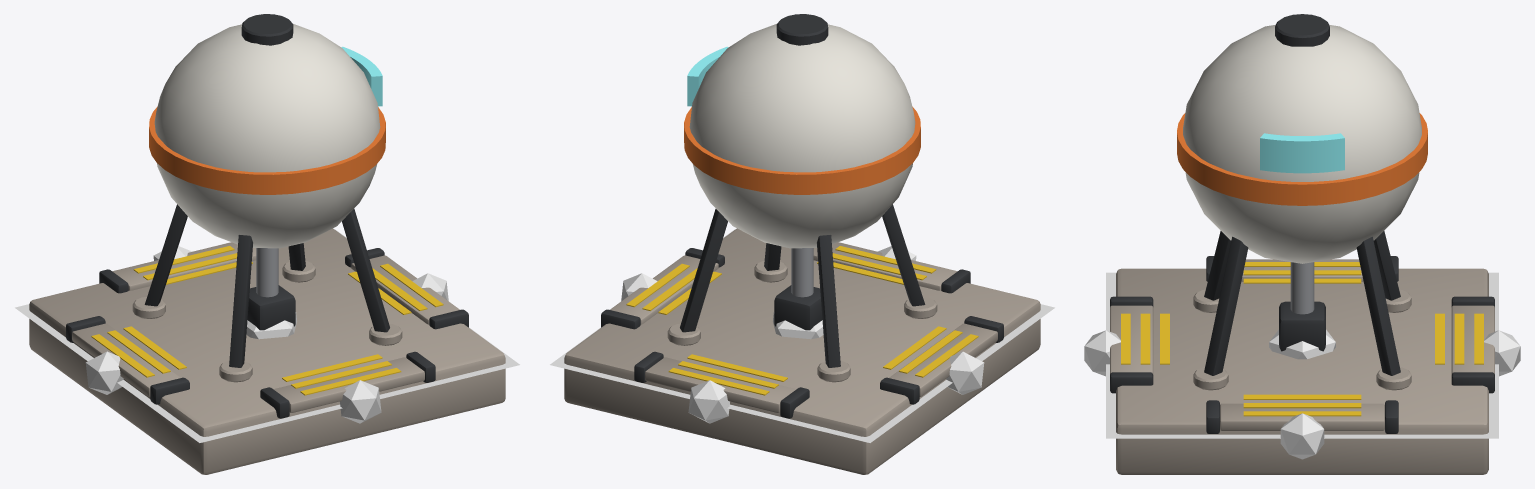
File: water_tank_1x1.gltf
The picture shows the model from 3 angles, left to right: view 1: azimuth 30°, elevation 25°; view 2: azimuth 150°, elevation 25°; view 3: azimuth 270°, elevation 25°; orthographic projection. The views are drawn at different scales.
Parts seen in each view (by area): view 1: WaterTank, %V%AnchorOut.003+, %V%AnchorOut.001+, %V%AnchorOut+, %V%AnchorOut.002+, %P%Footprint, %P%AnchorOut.003, %P%AnchorOut.001, %P%Center; view 2: WaterTank, %V%AnchorOut.002+, %V%AnchorOut.001+, %V%AnchorOut+, %V%AnchorOut.003+, %P%Footprint, %P%AnchorOut.002, %P%AnchorOut.001, %P%Center; view 3: WaterTank, %V%AnchorOut+, %V%AnchorOut.002+, %V%AnchorOut.003+, %P%Footprint, %V%AnchorOut.001+, %P%AnchorOut, %P%AnchorOut.002, %P%AnchorOut.003, %P%Center.
Part boxes in pixels (x1=…): WaterTank: x1=29, y1=14, x2=505, y2=474; %V%AnchorOut.003+: x1=260, y1=351, x2=435, y2=418; %V%AnchorOut.001+: x1=66, y1=316, x2=189, y2=404; %V%AnchorOut+: x1=345, y1=248, x2=468, y2=329; %V%AnchorOut.002+: x1=99, y1=242, x2=256, y2=293; %P%Footprint: x1=15, y1=229, x2=519, y2=442; %P%AnchorOut.003: x1=340, y1=380, x2=381, y2=423; %P%AnchorOut.001: x1=85, y1=351, x2=123, y2=394; %P%Center: x1=246, y1=312, x2=296, y2=339; WaterTank: x1=564, y1=14, x2=1040, y2=474; %V%AnchorOut.002+: x1=634, y1=351, x2=809, y2=418; %V%AnchorOut.001+: x1=880, y1=316, x2=1003, y2=404; %V%AnchorOut+: x1=601, y1=248, x2=724, y2=329; %V%AnchorOut.003+: x1=813, y1=242, x2=970, y2=293; %P%Footprint: x1=550, y1=229, x2=1054, y2=442; %P%AnchorOut.002: x1=688, y1=380, x2=729, y2=423; %P%AnchorOut.001: x1=946, y1=351, x2=984, y2=394; %P%Center: x1=773, y1=312, x2=823, y2=339; WaterTank: x1=1116, y1=14, x2=1488, y2=474; %V%AnchorOut+: x1=1206, y1=394, x2=1398, y2=433; %V%AnchorOut.002+: x1=1435, y1=296, x2=1494, y2=393; %V%AnchorOut.003+: x1=1110, y1=296, x2=1169, y2=393; %P%Footprint: x1=1106, y1=272, x2=1498, y2=438; %V%AnchorOut.001+: x1=1206, y1=256, x2=1398, y2=283; %P%AnchorOut: x1=1280, y1=413, x2=1324, y2=459; %P%AnchorOut.002: x1=1484, y1=330, x2=1520, y2=376; %P%AnchorOut.003: x1=1084, y1=330, x2=1120, y2=376; %P%Center: x1=1269, y1=329, x2=1335, y2=359.
Bounding box in the file's own units: 2.23 × 2.1 × 2.22.
